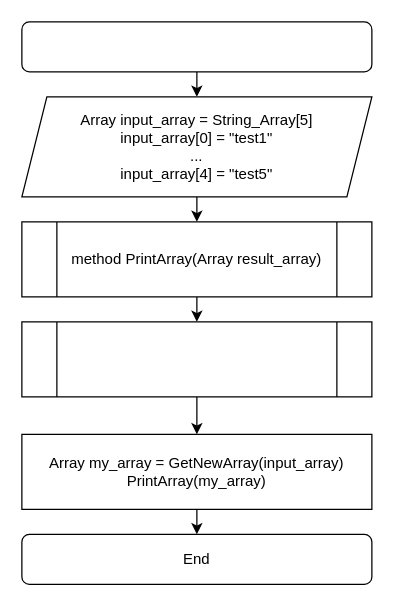
The diagram is 394 pixels wide and 606 high, and some of its shapes have lost their labels. The shapes that lost their labels are listed below. From the top down, each one's centre as x and y in pixels, then its label:
At point 196,46: "Start".
At point 196,359: "method GetNewArray(Array inp_array)".
